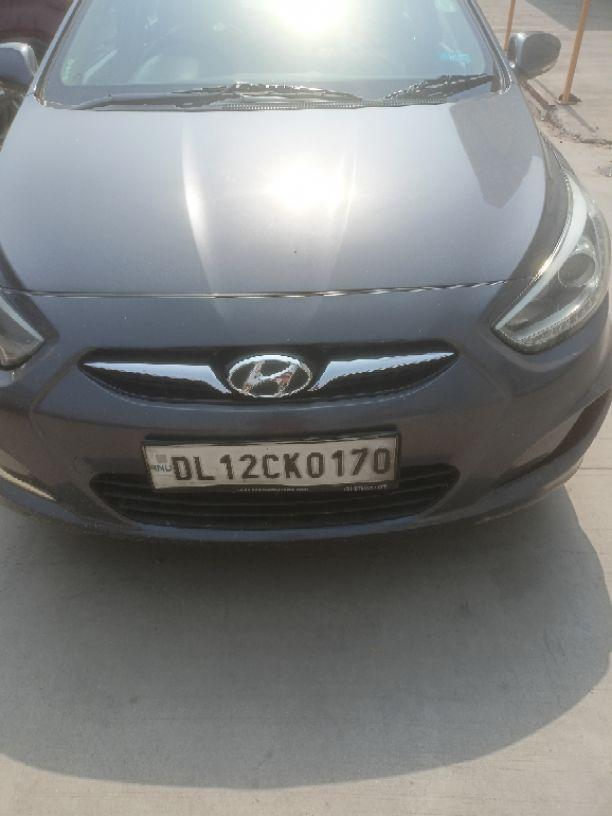license_plate: (139, 429, 401, 495)
